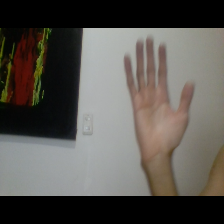left: (118, 29, 195, 155)
